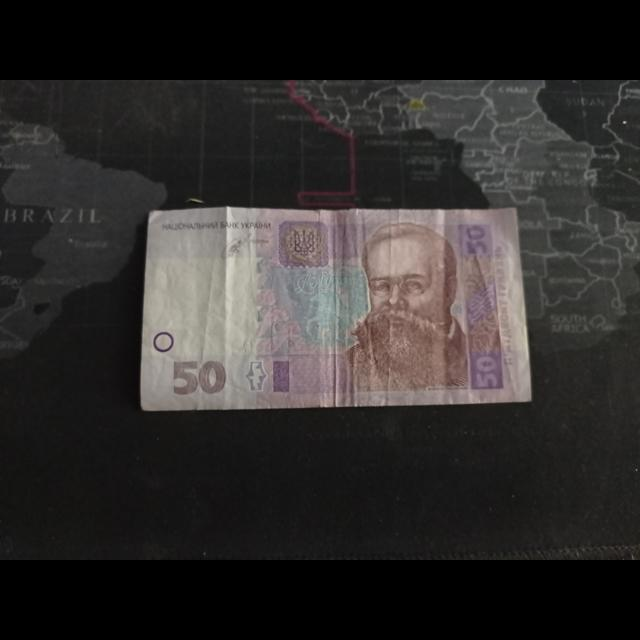50uah: (141, 206, 534, 414)
